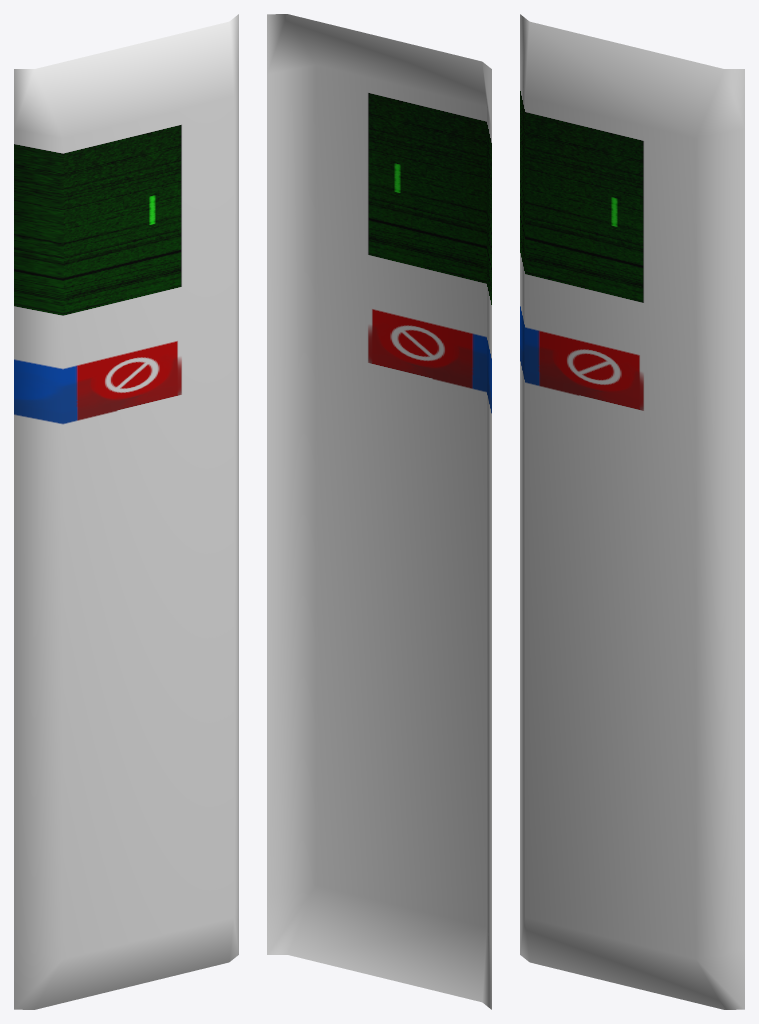
Rendered from Wall_1_A.fbx.
The picture shows the model from 3 angles, left to right: view 1: azimuth 30°, elevation 25°; view 2: azimuth 150°, elevation 25°; view 3: azimuth 330°, elevation 25°; orthographic projection.
Visible parts, largest first — view 1: TinyWall2; view 2: TinyWall2; view 3: TinyWall2.
Boxes of the visible parts, <box> form: TinyWall2: <box>14,14,238,1009</box>; TinyWall2: <box>267,14,491,1009</box>; TinyWall2: <box>520,14,744,1009</box>.
Bounding box in the file's own units: 100 × 400 × 16.94.
Materials: 1 (1 with a texture image).
